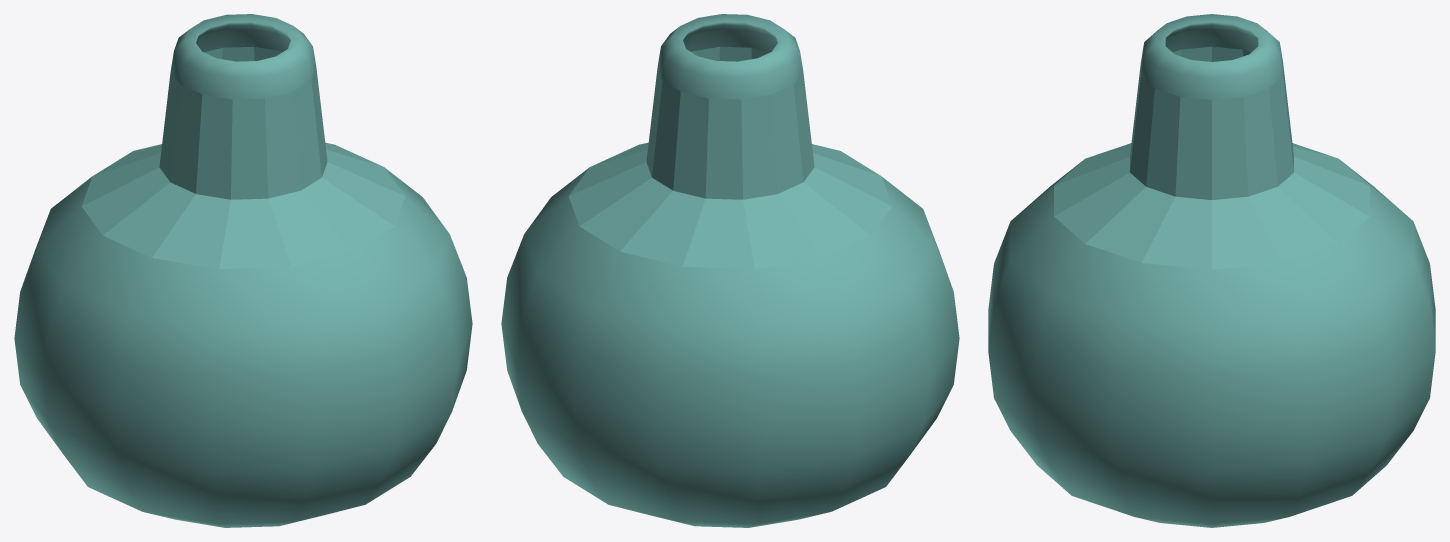
File: Bottle.fbx
The picture shows the model from 3 angles, left to right: view 1: azimuth 30°, elevation 25°; view 2: azimuth 150°, elevation 25°; view 3: azimuth 270°, elevation 25°; orthographic projection.
Visible parts, largest first — view 1: bottle; view 2: bottle; view 3: bottle.
Part boxes in pixels (x1,y1,x2,y2): bottle: (14,14,472,527); bottle: (501,14,959,527); bottle: (988,14,1435,527).
Size of the model in its own units: 2 by 2.12 by 1.95.
